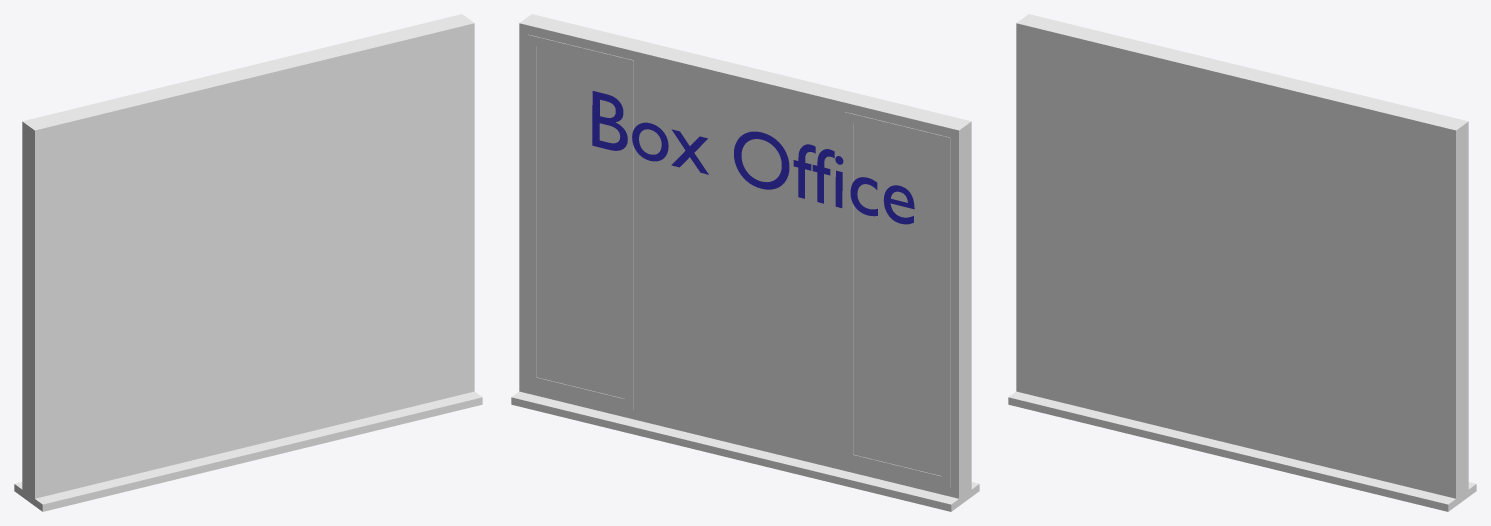
Rendered from window.glb.
3 views of the same model, side by side, from view 1: azimuth 30°, elevation 25°; view 2: azimuth 150°, elevation 25°; view 3: azimuth 330°, elevation 25° (orthographic).
Parts seen in each view (by area): view 1: CTRL_Hole, Window; view 2: CTRL_Hole, Window, Text; view 3: CTRL_Hole, Window.
Boxes of the visible parts, box(x1,y1,x2,y2) form: CTRL_Hole: box(22, 14, 474, 505); Window: box(14, 17, 482, 511); CTRL_Hole: box(519, 14, 971, 504); Window: box(511, 17, 979, 511); Text: box(592, 91, 914, 224); CTRL_Hole: box(1016, 14, 1468, 505); Window: box(1008, 17, 1476, 511).
Bounding box in the file's own units: 2.5 × 2.04 × 0.28.
